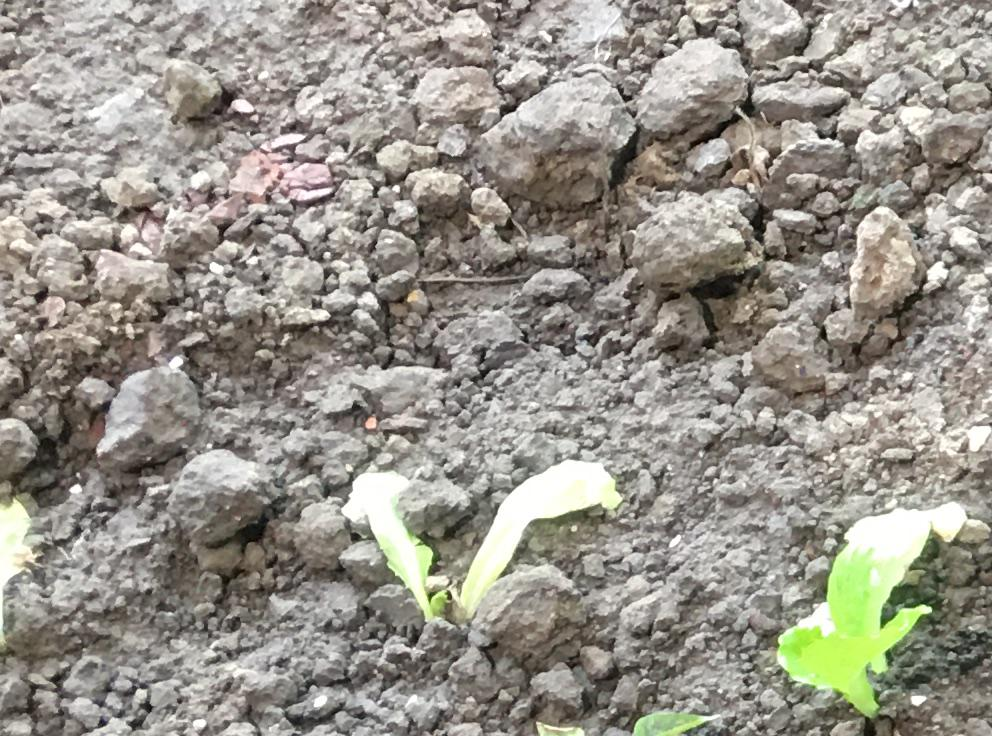block: (474, 75, 621, 212), (634, 35, 747, 147), (630, 190, 749, 294), (91, 363, 203, 463), (478, 567, 582, 664), (165, 449, 265, 542), (851, 206, 927, 319)
